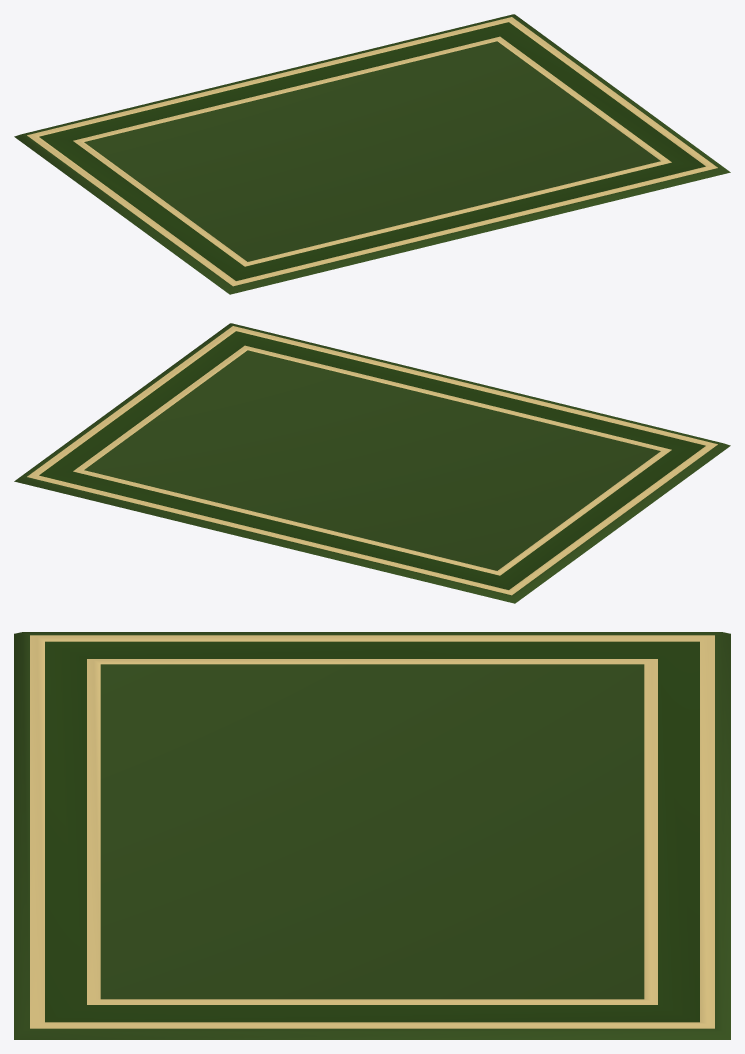
File: Rug.fbx
The picture shows the model from 3 angles, top to bottom: view 1: azimuth 30°, elevation 25°; view 2: azimuth 150°, elevation 25°; view 3: azimuth 270°, elevation 25°; orthographic projection. The views are drawn at different scales.
Parts seen in each view (by area): view 1: Rectangle Rug; view 2: Rectangle Rug; view 3: Rectangle Rug.
Part boxes in pixels (x1,y1,x2,y2): Rectangle Rug: (14,14,730,294); Rectangle Rug: (14,323,730,603); Rectangle Rug: (14,632,730,1039).
Bounding box in the file's own units: 399 × 2.91 × 298.
